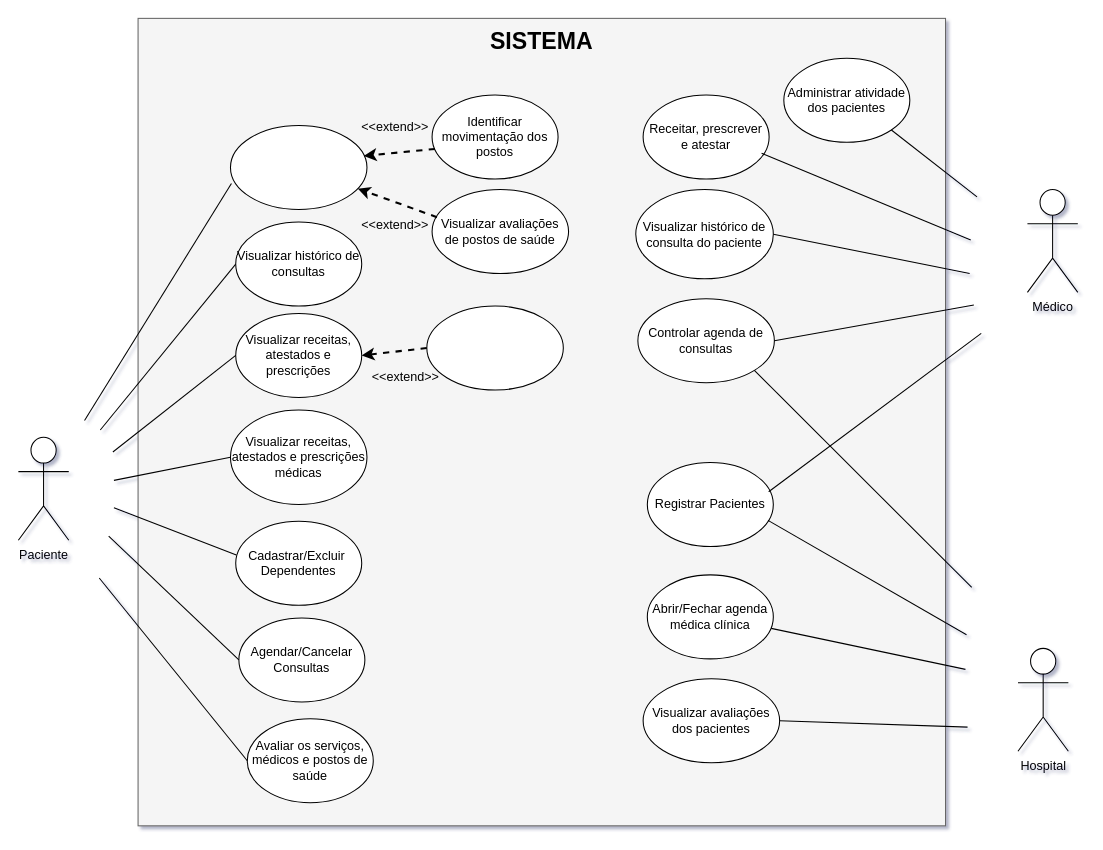
Some shapes in this 1103 by 850 pixel diagram are drawn without their labels. The centre of each missing label's shape, as x and y in pixels:
"Solicitar renovação de receita médica" goes at (x=494, y=347).
"Visualizar postos próximos" goes at (x=298, y=166).
